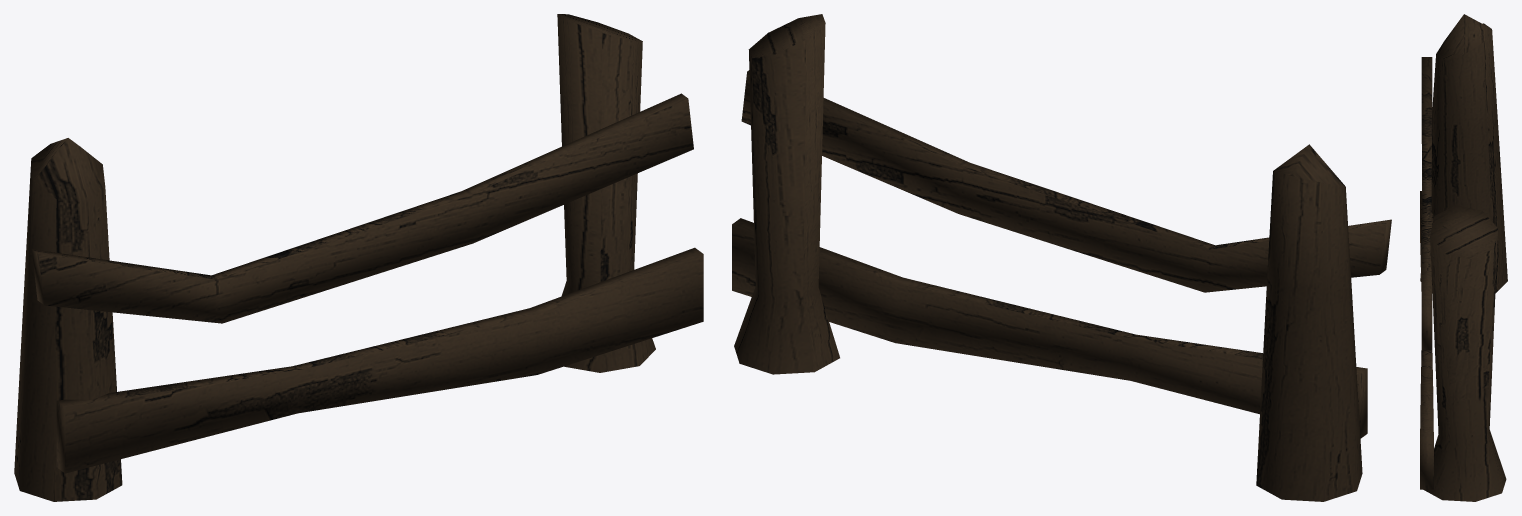
The model's file is WoodFence.fbx.
The picture shows the model from 3 angles, left to right: view 1: azimuth 30°, elevation 25°; view 2: azimuth 150°, elevation 25°; view 3: azimuth 270°, elevation 25°; orthographic projection. The views are drawn at different scales.
Parts seen in each view (by area): view 1: WoodFence; view 2: WoodFence; view 3: WoodFence.
Part boxes in pixels (<box>): WoodFence: <box>14,14,703,501</box>; WoodFence: <box>732,14,1391,501</box>; WoodFence: <box>1420,14,1507,501</box>.
Bounding box in the file's own units: 2.26 × 1.11 × 0.3317.
